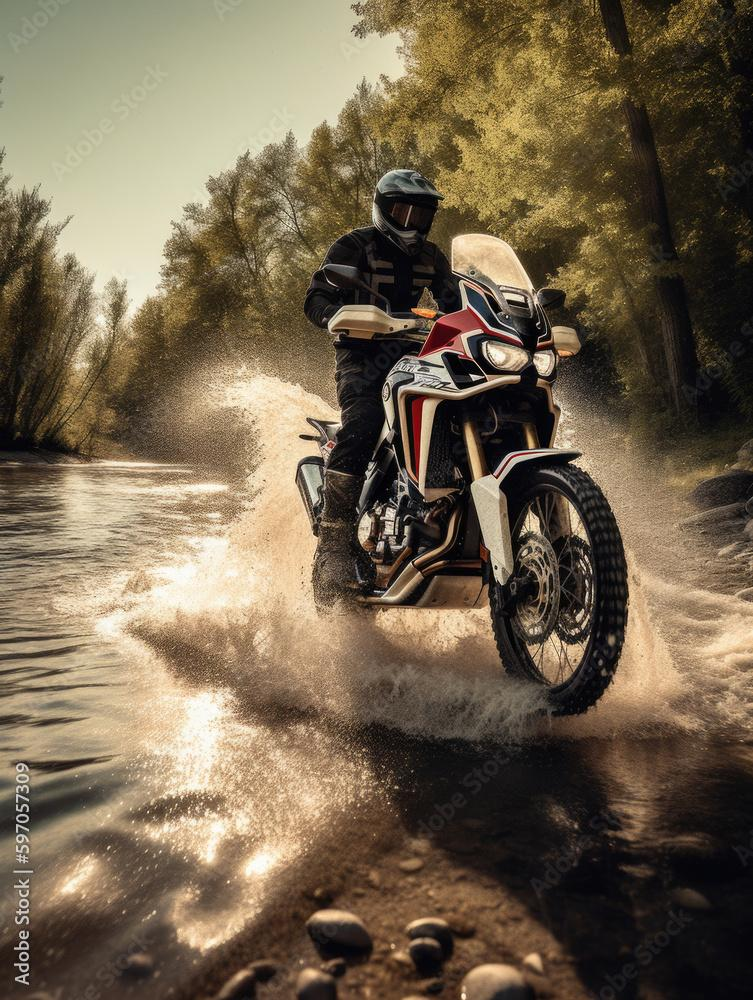helmet: (371, 168, 446, 260)
